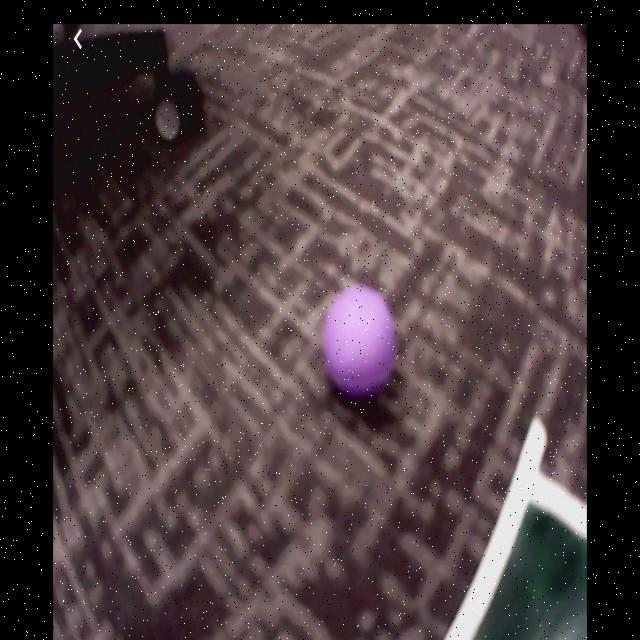ball: (323, 288, 400, 396)
